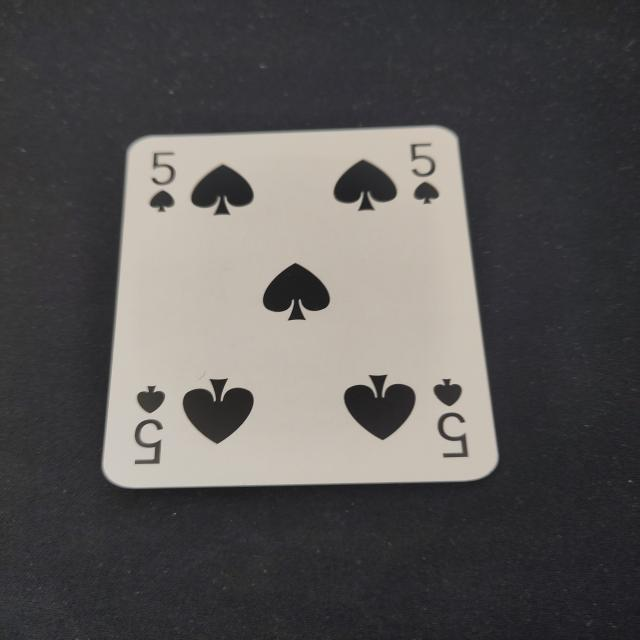5s: (420, 374, 482, 468), (128, 382, 172, 472), (405, 138, 447, 211), (143, 149, 184, 218)
